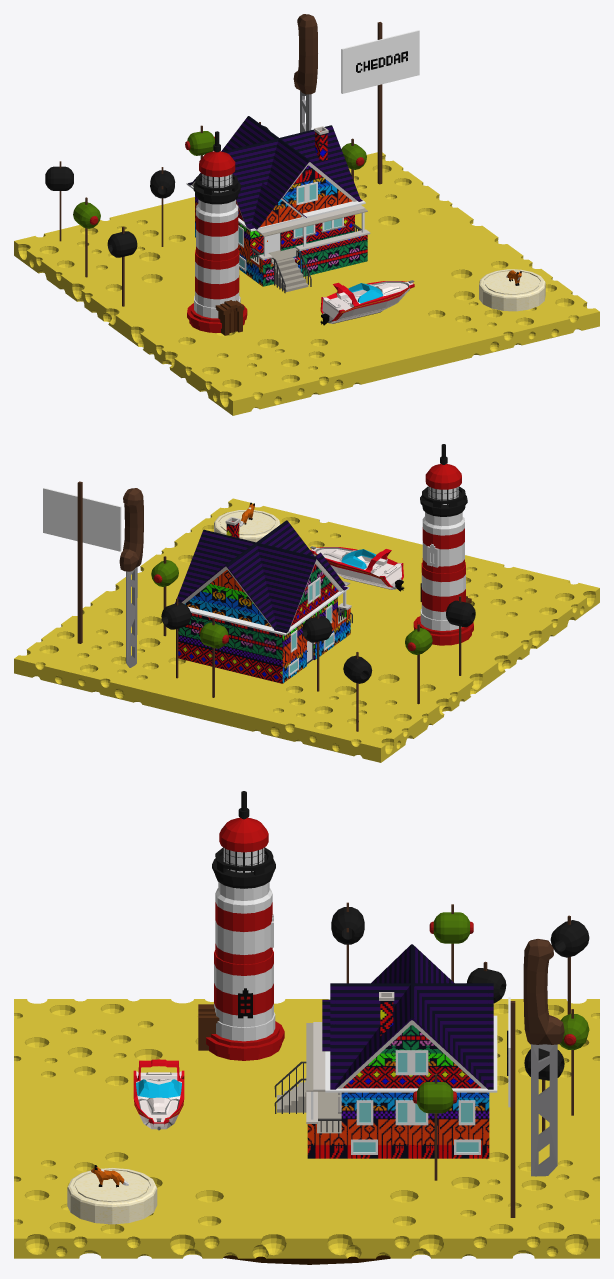
3 views of the same model, one above another, from view 1: azimuth 30°, elevation 25°; view 2: azimuth 150°, elevation 25°; view 3: azimuth 270°, elevation 25° (orthographic). The views are drawn at different scales.
Parts seen in each view (by area): view 1: Cube.022, Cube.966, OBJRANDOM_LIGHTHOUSE, Cube.023, VEHICLES_BOAT, Cylinder.016, Cube.024, Sphere.017, Sphere.016, Sphere.020, Sphere.018, Sphere.022 (+1 smaller); view 2: Cube.022, Cube.966, OBJRANDOM_LIGHTHOUSE, Cube.023, Cube.024, VEHICLES_BOAT, Cylinder.016, Sphere.021, Sphere.020, Sphere.017, Sphere.016, Sphere.022 (+2 smaller); view 3: Cube.022, Cube.966, OBJRANDOM_LIGHTHOUSE, Cube.024, Cylinder.016, VEHICLES_BOAT, Cube.023, Sphere.019, Sphere.016, Sphere.018, Sphere.017, Sphere.022 (+3 smaller).
Part boxes in pixels (box(x1,y1,x2,y2)): Cube.022: box(14, 152, 599, 415); Cube.966: box(186, 116, 370, 293); OBJRANDOM_LIGHTHOUSE: box(187, 131, 247, 335); Cube.023: box(341, 22, 419, 184); VEHICLES_BOAT: box(320, 280, 414, 325); Cylinder.016: box(479, 269, 545, 311); Cube.024: box(293, 14, 317, 132); Sphere.017: box(107, 226, 137, 306); Sphere.016: box(45, 161, 73, 241); Sphere.020: box(150, 167, 175, 246); Sphere.018: box(73, 197, 100, 277); Sphere.022: box(185, 125, 214, 158); Cube.022: box(14, 498, 599, 762); Cube.966: box(174, 517, 352, 683); OBJRANDOM_LIGHTHOUSE: box(413, 444, 473, 645); Cube.023: box(43, 481, 121, 643); Cube.024: box(119, 488, 143, 667); VEHICLES_BOAT: box(310, 546, 404, 591); Cylinder.016: box(214, 509, 280, 542); Sphere.021: box(161, 598, 191, 678); Sphere.020: box(302, 611, 331, 691); Sphere.017: box(446, 596, 475, 675); Sphere.016: box(343, 652, 372, 731); Sphere.022: box(199, 618, 229, 697); Cube.022: box(14, 999, 599, 1258); Cube.966: box(274, 944, 497, 1158); OBJRANDOM_LIGHTHOUSE: box(198, 791, 284, 1060); Cube.024: box(523, 939, 564, 1176); Cylinder.016: box(67, 1167, 157, 1224); VEHICLES_BOAT: box(133, 1059, 184, 1130); Cube.023: box(507, 997, 515, 1217); Sphere.019: box(413, 1074, 456, 1180); Sphere.016: box(550, 915, 589, 1014); Sphere.018: box(429, 904, 473, 982); Sphere.017: box(331, 902, 364, 983); Sphere.022: box(560, 1009, 589, 1115).
Bounding box in the file's own units: 3917 × 2197 × 4000.
43 materials, 7 textured.
